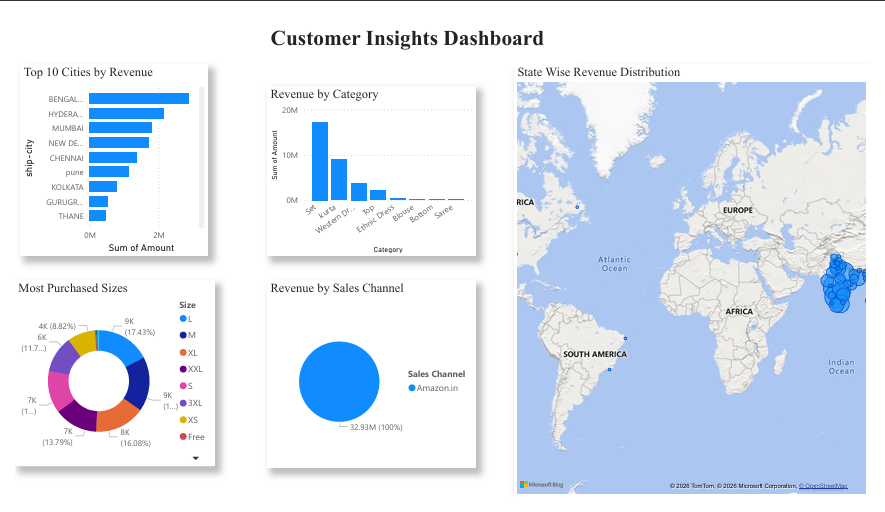

The dashboard page shown, as its layout file describes it:
{"tool":"powerbi","page":{"name":"Customer Insights","canvas":[1280,720],"ordinal":1},"visuals":[{"type":"clusteredBarChart","title":"Top 10 Cities by Revenue","fields":{"Category":["amazon_sales_db amazon sale report.ship-city"],"Y":["Sum(amazon_sales_db amazon sale report.Amount)"]},"box":[8.4,72.2,280.5,287.2],"z":0},{"type":"donutChart","title":"Most Purchased Sizes","fields":{"Category":["amazon_sales_db amazon sale report.Size"],"Y":["Sum(amazon_sales_db amazon sale report.Qty)"]},"box":[0,396.4,299,278.8],"z":1000},{"type":"pieChart","title":"Revenue by Sales Channel","fields":{"Category":["amazon_sales_db amazon sale report.Sales Channel"],"Y":["Sum(amazon_sales_db amazon sale report.Amount)"]},"box":[378,396.4,312.4,280.5],"z":2000},{"type":"map","title":"State Wise Revenue Distribution","fields":{"Category":["amazon_sales_db amazon sale report.ship-state"],"Size":["Sum(amazon_sales_db amazon sale report.Amount)"]},"box":[747.5,72.2,532.5,648.4],"z":3000},{"type":"textbox","box":[378,8.4,463.6,63.8],"z":4000},{"type":"clusteredColumnChart","title":"Revenue by Category","fields":{"Y":["Sum(amazon_sales_db amazon sale report.Amount)"],"Category":["amazon_sales_db amazon sale report.Category"]},"box":[378,104.1,312.4,255.3],"z":5000}]}

Visuals, with their boxes in screenshot pixels (x1, y1, x2, y2), scaled from the page's 1280x720 canvas onto the 885x512 screenshot:
"Top 10 Cities by Revenue" clusteredBarChart: BBox(6, 51, 200, 256)
"Most Purchased Sizes" donutChart: BBox(0, 282, 207, 480)
"Revenue by Sales Channel" pieChart: BBox(261, 282, 477, 481)
"State Wise Revenue Distribution" map: BBox(517, 51, 884, 511)
textbox: BBox(261, 6, 582, 51)
"Revenue by Category" clusteredColumnChart: BBox(261, 74, 477, 256)
